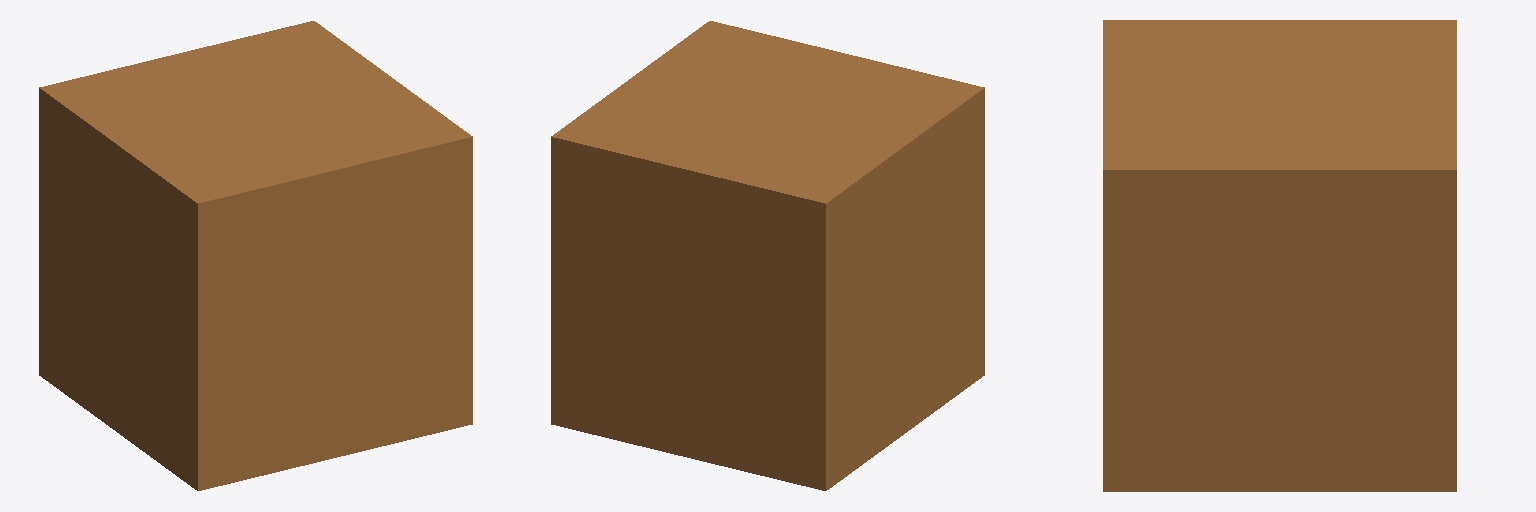
URDF robot description (lidar_wobbler):
<?xml version="1.0"?>
<robot  name="lidar_wobbler">

<!-- Used for fixing robot to Gazebo 'base_link' -->
  <link name="world"/>

  <joint name="glue_frame_to_world" type="fixed">
    <parent link="world"/>
    <child link="link1"/>
  </joint>

 <!-- Base Link -->
  <link name="link1">

    <inertial>
      <origin xyz="0 0 0.5" rpy="0 0 0"/>
      <mass value="1"/>
      <inertia
        ixx="1.0" ixy="0.0" ixz="0.0"
        iyy="1.0" iyz="0.0"
        izz="1.0"/>
    </inertial>
  </link>

<!-- Moveable Link -->
<!-- add a simulated lidar, including visual, collision and inertial properties, and physics simulation-->
  <link name="lidar_link">
      <collision>
          <origin xyz="0.5 0 0.5" rpy="0 0 0"/>
          <geometry>
              <!-- coarse LIDAR model; a simple box -->
              <box size="0.2 0.2 0.2"/>
          </geometry>
      </collision>

      <visual>
          <origin xyz="0 0 0" rpy="0 0 0" />
          <geometry>
              <box size="0.2 0.2 0.2" />
          </geometry>
          <material name="sick_grey">
              <color rgba="0.7 0.5 0.3 1.0"/>
          </material>
      </visual>

      <inertial>
          <mass value="4.0" />
          <origin xyz="0 0 0" rpy="0 0 0"/>
          <inertia ixx="0.01" ixy="0" ixz="0" iyy="0.01" iyz="0" izz="0.01" />
      </inertial>
  </link>
  <!--the above displays a box meant to imply Lidar-->

  <joint name="joint1" type="revolute">
    <parent link="link1"/>
    <child link="lidar_link"/>
    <origin xyz="0 0 1" rpy="0 0 0"/>
    <axis xyz="0 1 0"/>
    <limit effort="10.0" lower="0.0" upper="6.28" velocity="0.5"/>
    <dynamics damping="1.0"/>
  </joint>

  <transmission name="tran1">
    <type>transmission_interface/SimpleTransmission</type>
    <joint name="joint1">
      <hardwareInterface>EffortJointInterface</hardwareInterface>
    </joint>
    <actuator name="motor1">
      <hardwareInterface>EffortJointInterface</hardwareInterface>
      <mechanicalReduction>1</mechanicalReduction>
    </actuator>
  </transmission>
  <gazebo>
     <plugin name="gazebo_ros_control" filename="libgazebo_ros_control.so">
       <robotNamespace>/lidar_wobbler</robotNamespace>
     </plugin>
  </gazebo>



    <!-- here is the gazebo plug-in to simulate a lidar sensor -->
  <gazebo reference="lidar_link">
    <sensor type="gpu_ray" name="sick_lidar_sensor">
      <pose>0 0 0 0 0 0</pose>
      <visualize>false</visualize>
      <update_rate>40</update_rate>
      <ray>
        <scan>
          <horizontal>
            <samples>181</samples>
            <resolution>1</resolution>
            <min_angle>-1.570796</min_angle>
            <max_angle>1.570796</max_angle>
          </horizontal>
        </scan>
        <range>
          <min>0.10</min>
          <max>80.0</max>
          <resolution>0.01</resolution>
        </range>
        <noise>
          <type>gaussian</type>
          <mean>0.0</mean>
          <stddev>0.01</stddev>
        </noise>
      </ray>
      <plugin name="gazebo_ros_lidar_controller" filename="libgazebo_ros_gpu_laser.so">
        <topicName>/scan</topicName>
        <frameName>lidar_link</frameName>
      </plugin>
    </sensor>
  </gazebo>    
  
</robot>

--- Facts derived from the render (not from the file) ---
3 views of the same robot in one strip: view 1: azimuth 30°, elevation 25°; view 2: azimuth 150°, elevation 25°; view 3: azimuth 270°, elevation 25° (orthographic).
Robot: lidar_wobbler — 3 links, 2 joints (1 revolute, 1 fixed); root link world; default pose: every joint at zero.
Links seen in each view (by area): view 1: lidar_link; view 2: lidar_link; view 3: lidar_link.
Link boxes in pixels (bbox=[...]): lidar_link: bbox=[39, 21, 472, 490]; lidar_link: bbox=[551, 21, 984, 490]; lidar_link: bbox=[1103, 20, 1456, 491].
Size in the robot's own frame: 0.2 by 0.2 by 0.2 metres.
Geometry: primitives only (box / cylinder / sphere), no mesh files.
